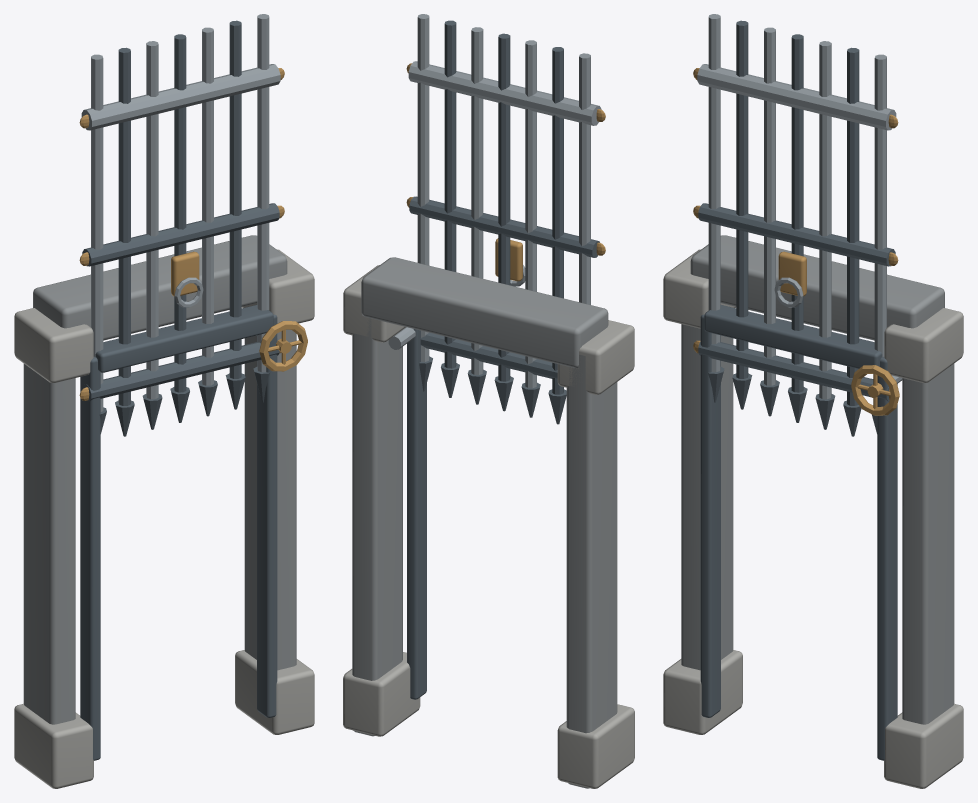
Rendered from portao_levadico_levantado.glb.
3 renders of one model, left to right at view 1: azimuth 30°, elevation 25°; view 2: azimuth 150°, elevation 25°; view 3: azimuth 330°, elevation 25°, orthographic. The views are drawn at different scales.
Visible parts, largest first — view 1: Pilar de pedra 1, Pilar de pedra 2, Viga superior de pedra, Guia de ferro 1, Guia de ferro 2, Base lavrada 1, Viga de ferro do mecanismo, Capitel 1, Grade levantada | travessa 3, Base lavrada 2, Grade levantada | barra vertical 3, Grade levantada | barra vertical 6 (+10 smaller); view 2: Pilar de pedra 1, Pilar de pedra 2, Viga superior de pedra, Guia de ferro 2, Base lavrada 1, Base lavrada 2, Grade levantada | travessa 3, Capitel 1, Grade levantada | barra vertical 6, Grade levantada | barra vertical 4, Grade levantada | barra vertical 5, Grade levantada | barra vertical 7 (+7 smaller); view 3: Pilar de pedra 2, Pilar de pedra 1, Viga superior de pedra, Guia de ferro 1, Guia de ferro 2, Base lavrada 2, Viga de ferro do mecanismo, Capitel 2, Grade levantada | travessa 3, Base lavrada 1, Grade levantada | barra vertical 5, Grade levantada | barra vertical 2 (+10 smaller).
Part boxes in pixels (bbox=[...]): Pilar de pedra 1: bbox=[23, 364, 75, 724]; Pilar de pedra 2: bbox=[244, 329, 296, 670]; Viga superior de pedra: bbox=[33, 235, 287, 340]; Guia de ferro 1: bbox=[80, 356, 100, 760]; Guia de ferro 2: bbox=[257, 314, 277, 717]; Base lavrada 1: bbox=[14, 704, 93, 788]; Viga de ferro do mecanismo: bbox=[95, 305, 273, 372]; Capitel 1: bbox=[14, 308, 93, 382]; Grade levantada | travessa 3: bbox=[81, 64, 280, 130]; Base lavrada 2: bbox=[235, 650, 314, 734]; Grade levantada | barra vertical 3: bbox=[146, 41, 158, 399]; Grade levantada | barra vertical 6: bbox=[229, 20, 241, 378]; Pilar de pedra 1: bbox=[566, 354, 617, 788]; Pilar de pedra 2: bbox=[352, 318, 402, 736]; Viga superior de pedra: bbox=[361, 257, 608, 367]; Guia de ferro 2: bbox=[407, 329, 426, 699]; Base lavrada 1: bbox=[557, 704, 634, 788]; Base lavrada 2: bbox=[343, 652, 420, 736]; Grade levantada | travessa 3: bbox=[408, 61, 601, 125]; Capitel 1: bbox=[557, 320, 634, 394]; Grade levantada | barra vertical 6: bbox=[444, 20, 456, 368]; Grade levantada | barra vertical 4: bbox=[498, 33, 510, 381]; Grade levantada | barra vertical 5: bbox=[471, 27, 483, 374]; Grade levantada | barra vertical 7: bbox=[417, 14, 429, 361]; Pilar de pedra 2: bbox=[902, 364, 954, 724]; Pilar de pedra 1: bbox=[681, 324, 733, 670]; Viga superior de pedra: bbox=[690, 235, 944, 340]; Guia de ferro 1: bbox=[700, 314, 720, 717]; Guia de ferro 2: bbox=[877, 356, 897, 760]; Base lavrada 2: bbox=[884, 704, 963, 788]; Viga de ferro do mecanismo: bbox=[704, 305, 882, 368]; Capitel 2: bbox=[884, 308, 963, 382]; Grade levantada | travessa 3: bbox=[697, 64, 896, 130]; Base lavrada 1: bbox=[663, 650, 742, 734]; Grade levantada | barra vertical 5: bbox=[819, 41, 831, 399]; Grade levantada | barra vertical 2: bbox=[736, 20, 748, 378].
Size of the model in its own units: 1.07 by 2.78 by 0.363.
